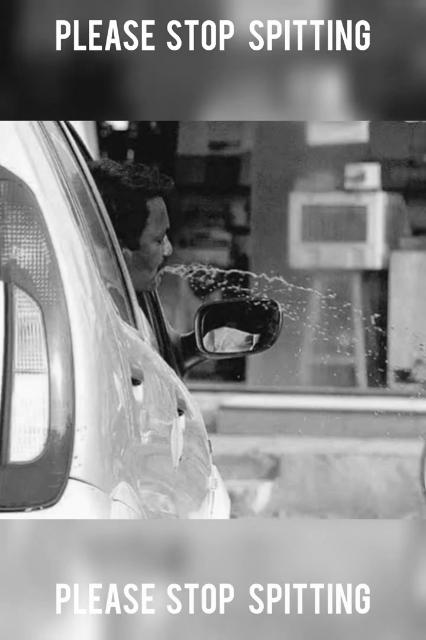spit: (121, 181, 426, 388)
